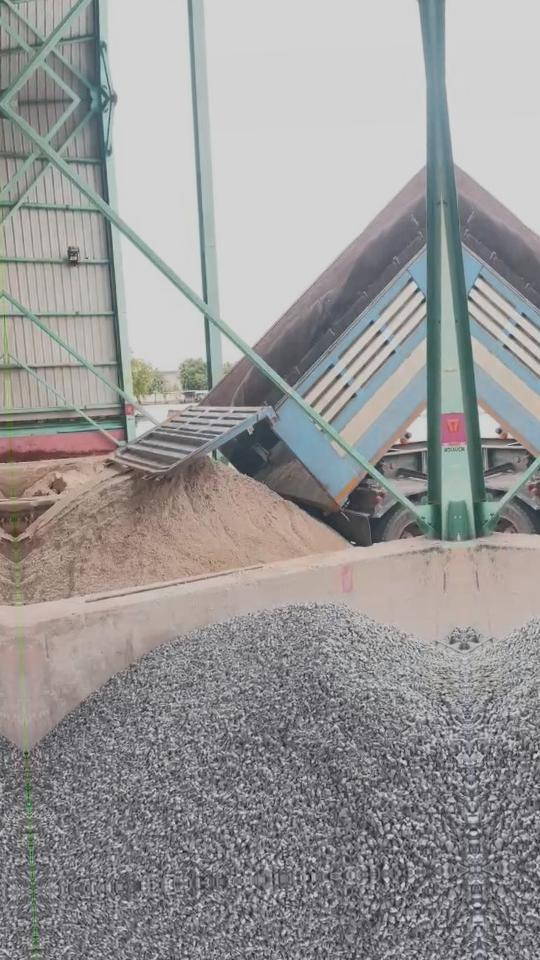gravel: (31, 604, 476, 890)
sand: (19, 458, 347, 603), (22, 469, 90, 498)
